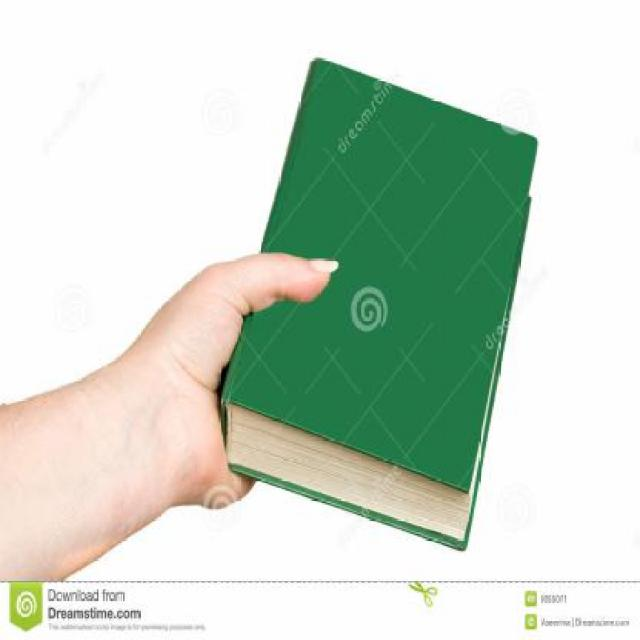pen: (196, 15, 590, 582)
